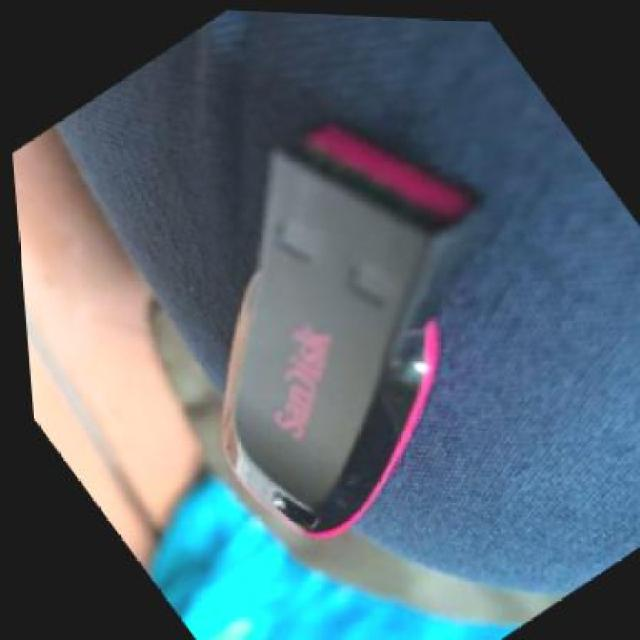Flashdisk: (28, 24, 640, 599)
